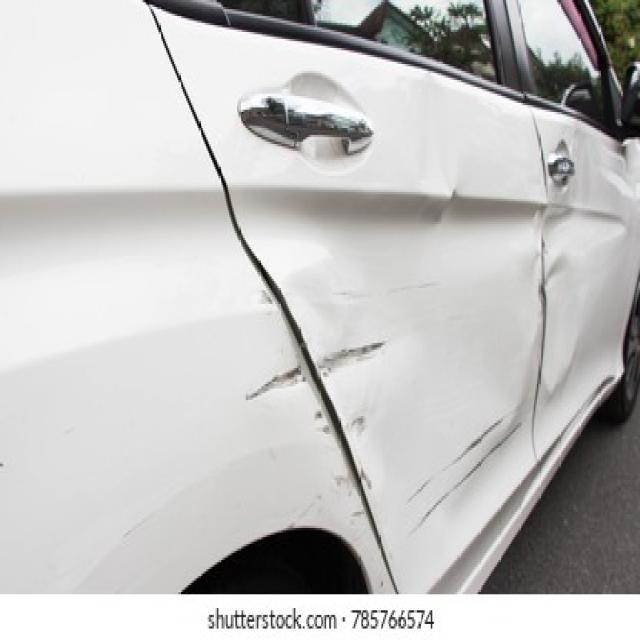dent: (503, 137, 617, 427), (413, 79, 467, 244)
scratch: (405, 410, 533, 536), (241, 337, 385, 408), (315, 411, 373, 524), (255, 289, 275, 314)
